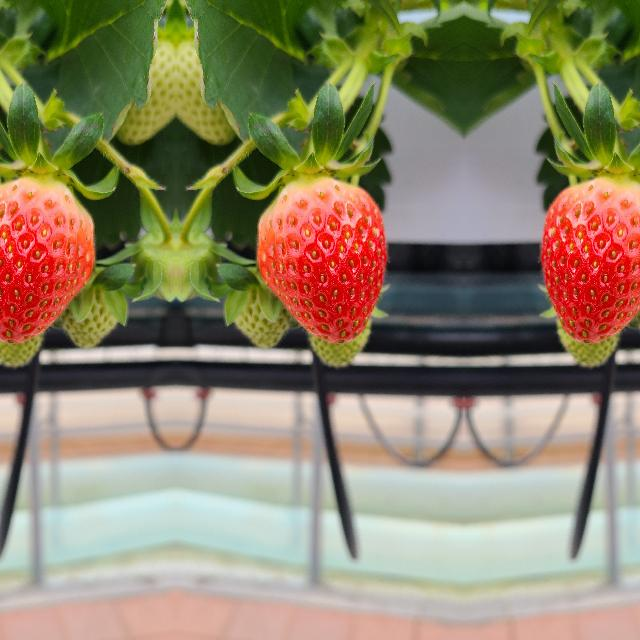Health_100: (256, 180, 384, 342), (541, 179, 640, 342), (0, 179, 94, 342)
Health_25: (226, 275, 294, 351), (56, 275, 124, 351)
